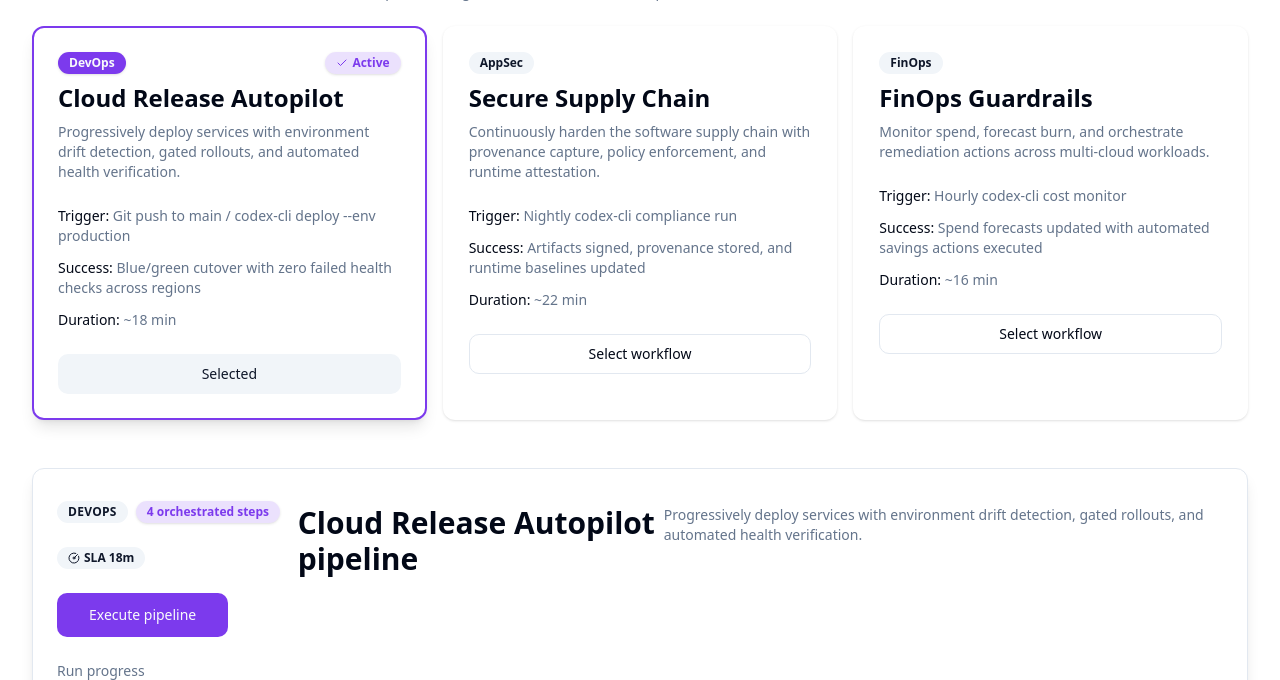
Test: App › allows selecting a different workflow
The image size is (1280, 680).
(page scrolled)
What coordinates should you click on to do the following:
click the button "Select workflow" below "22"
I would click on:
 (640, 354)
Its box is [469, 334, 811, 374].
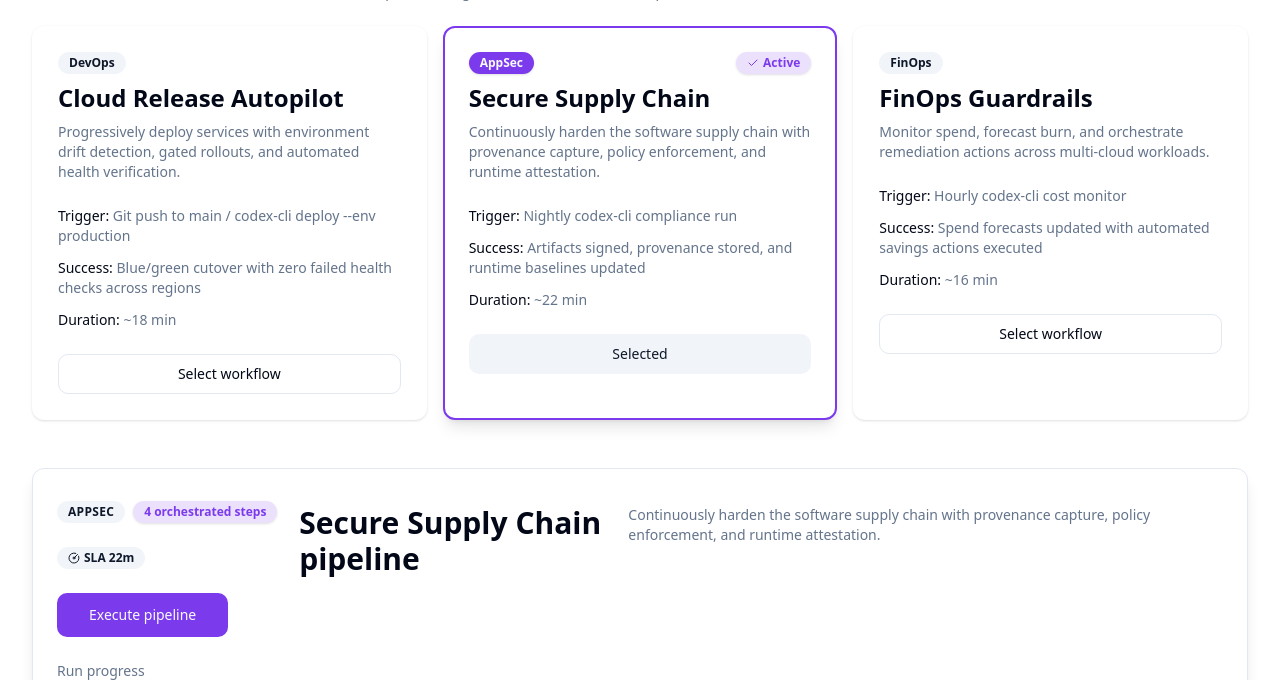
Expected: the heading "Secure Supply Chain pipeline" is shown, [299, 505, 628, 577]
